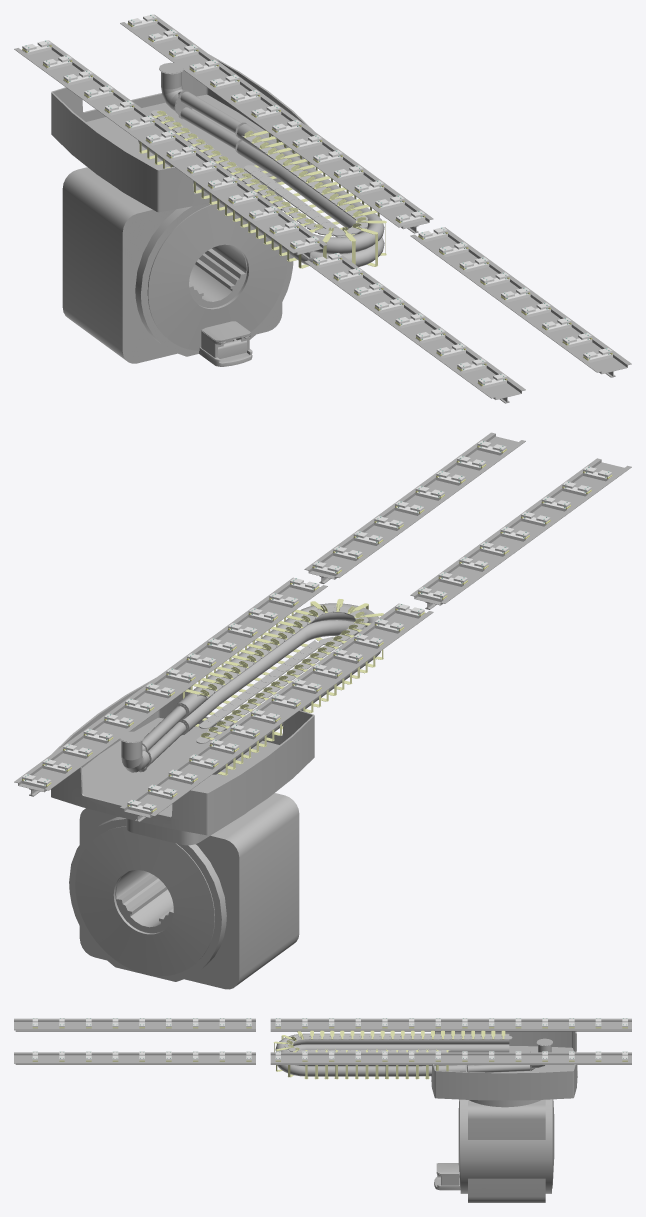
File: SkyraOR.glb
3 views of the same model, one above another, from view 1: azimuth 30°, elevation 25°; view 2: azimuth 150°, elevation 25°; view 3: azimuth 270°, elevation 25° (orthographic). The views are drawn at different scales.
Visible parts, largest first — view 1: Trail, MRI-head01, MRI-head06, MRI-head03, MRI-head02, Pipe00, Pipe02, MRI-head00, pipe-curve, Pipe03, Pipe01, chairtop; view 2: Trail, MRI-head01, MRI-head06, MRI-head04, MRI-head02, Pipe00, Pipe02, MRI-head00, MRI-head05, pipe-curve; view 3: Trail, MRI-head06, MRI-head01, MRI-head02, Pipe00, Pipe02, Pipe01, MRI-head05.
Part boxes in pixels (bbox=[...]): Trail: bbox=[14, 14, 631, 403]; MRI-head01: bbox=[62, 167, 282, 363]; MRI-head06: bbox=[51, 54, 314, 212]; MRI-head03: bbox=[147, 203, 287, 350]; MRI-head02: bbox=[135, 203, 293, 356]; Pipe00: bbox=[138, 140, 384, 266]; Pipe02: bbox=[237, 124, 384, 253]; MRI-head00: bbox=[189, 248, 245, 298]; pipe-curve: bbox=[159, 62, 192, 119]; Pipe03: bbox=[180, 91, 246, 137]; Pipe01: bbox=[180, 107, 242, 152]; chairtop: bbox=[201, 321, 250, 341]; Trail: bbox=[14, 432, 631, 822]; MRI-head01: bbox=[79, 793, 299, 989]; MRI-head06: bbox=[51, 678, 314, 835]; MRI-head04: bbox=[75, 826, 214, 976]; MRI-head02: bbox=[69, 817, 226, 981]; Pipe00: bbox=[181, 620, 380, 774]; Pipe02: bbox=[177, 603, 378, 716]; MRI-head00: bbox=[116, 874, 173, 923]; MRI-head05: bbox=[126, 813, 245, 845]; pipe-curve: bbox=[119, 731, 151, 772]; Trail: bbox=[14, 1018, 631, 1064]; MRI-head06: bbox=[431, 1031, 577, 1100]; MRI-head01: bbox=[468, 1099, 545, 1202]; MRI-head02: bbox=[460, 1099, 551, 1193]; Pipe00: bbox=[277, 1044, 509, 1076]; Pipe02: bbox=[275, 1033, 509, 1066]; Pipe01: bbox=[467, 1065, 530, 1072]; MRI-head05: bbox=[469, 1100, 540, 1107].
Size of the model in its own units: 2.42 by 3.05 by 11.51.
